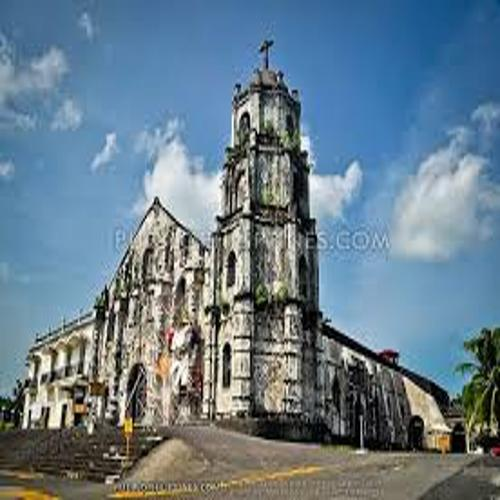Daraga Church: (87, 32, 323, 450)
